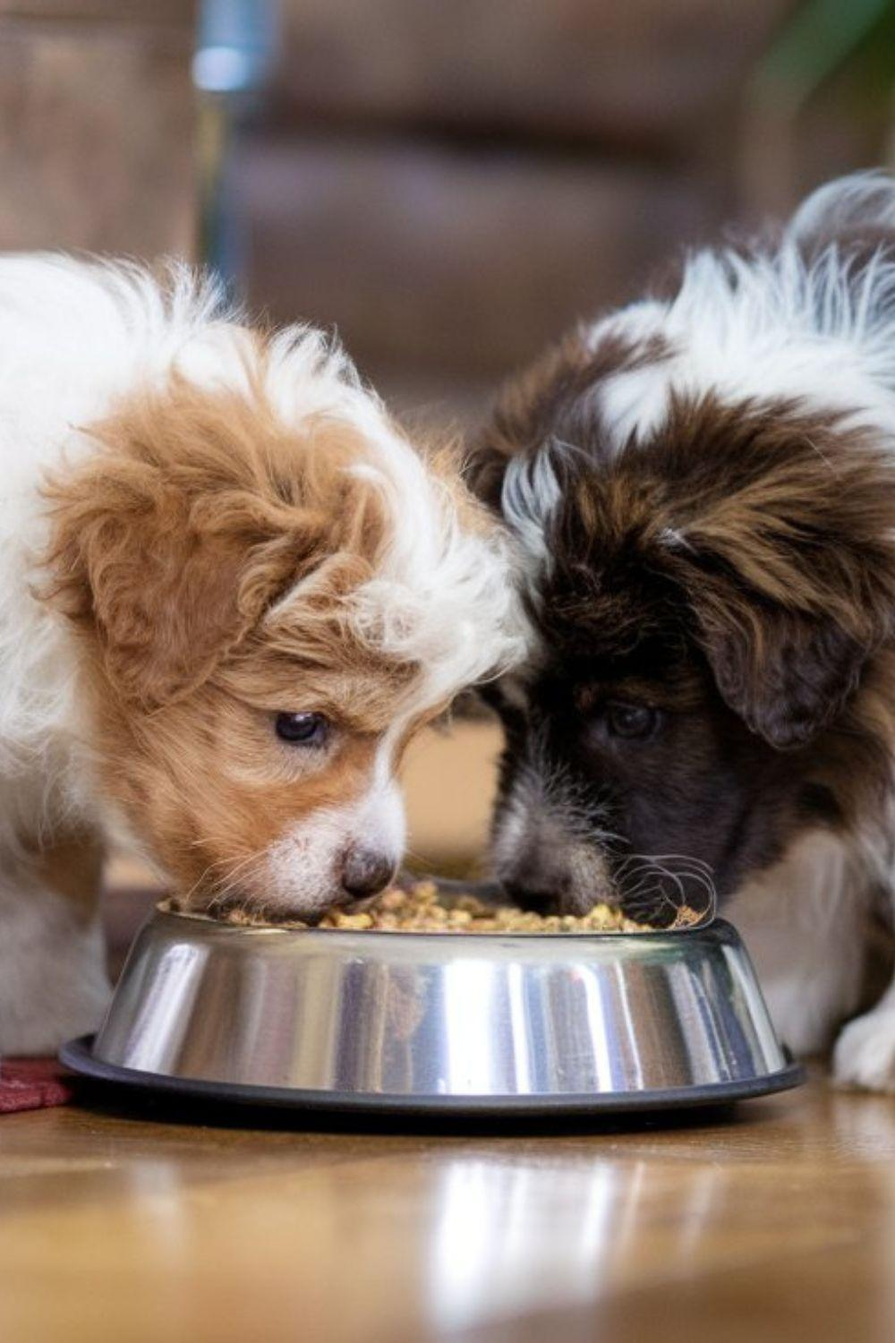puppy-dog: (1, 240, 557, 1064), (465, 166, 895, 1099)
